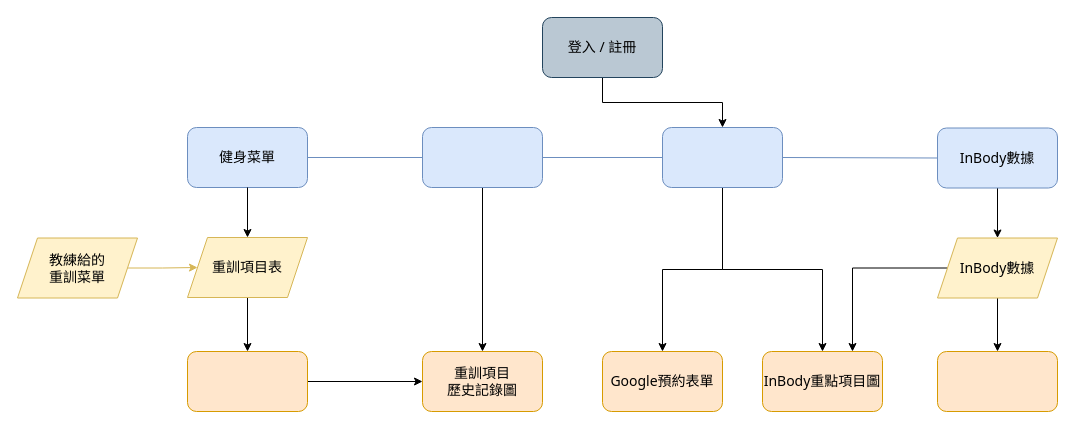
The diagram is 1075 pixels wide and 429 high, and some of its shapes have lost their labels. Here are the shapes that lost their labels. From the top down, the centre of each, then its label:
At (x=482, y=157): "健身紀錄".
At (x=722, y=157): "首頁".
At (x=247, y=381): "運動計時器".
At (x=997, y=381): "InBody歷史記錄圖".
